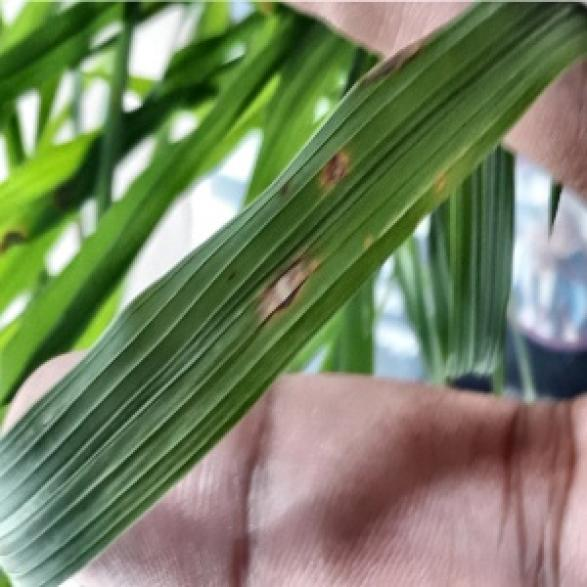Leaf_smut: (233, 24, 458, 346)
